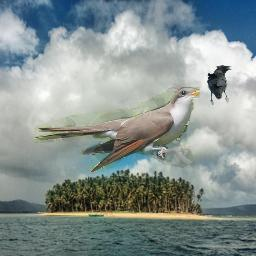Crow: (207, 64, 232, 105)
Cuckoo: (34, 87, 200, 172)
